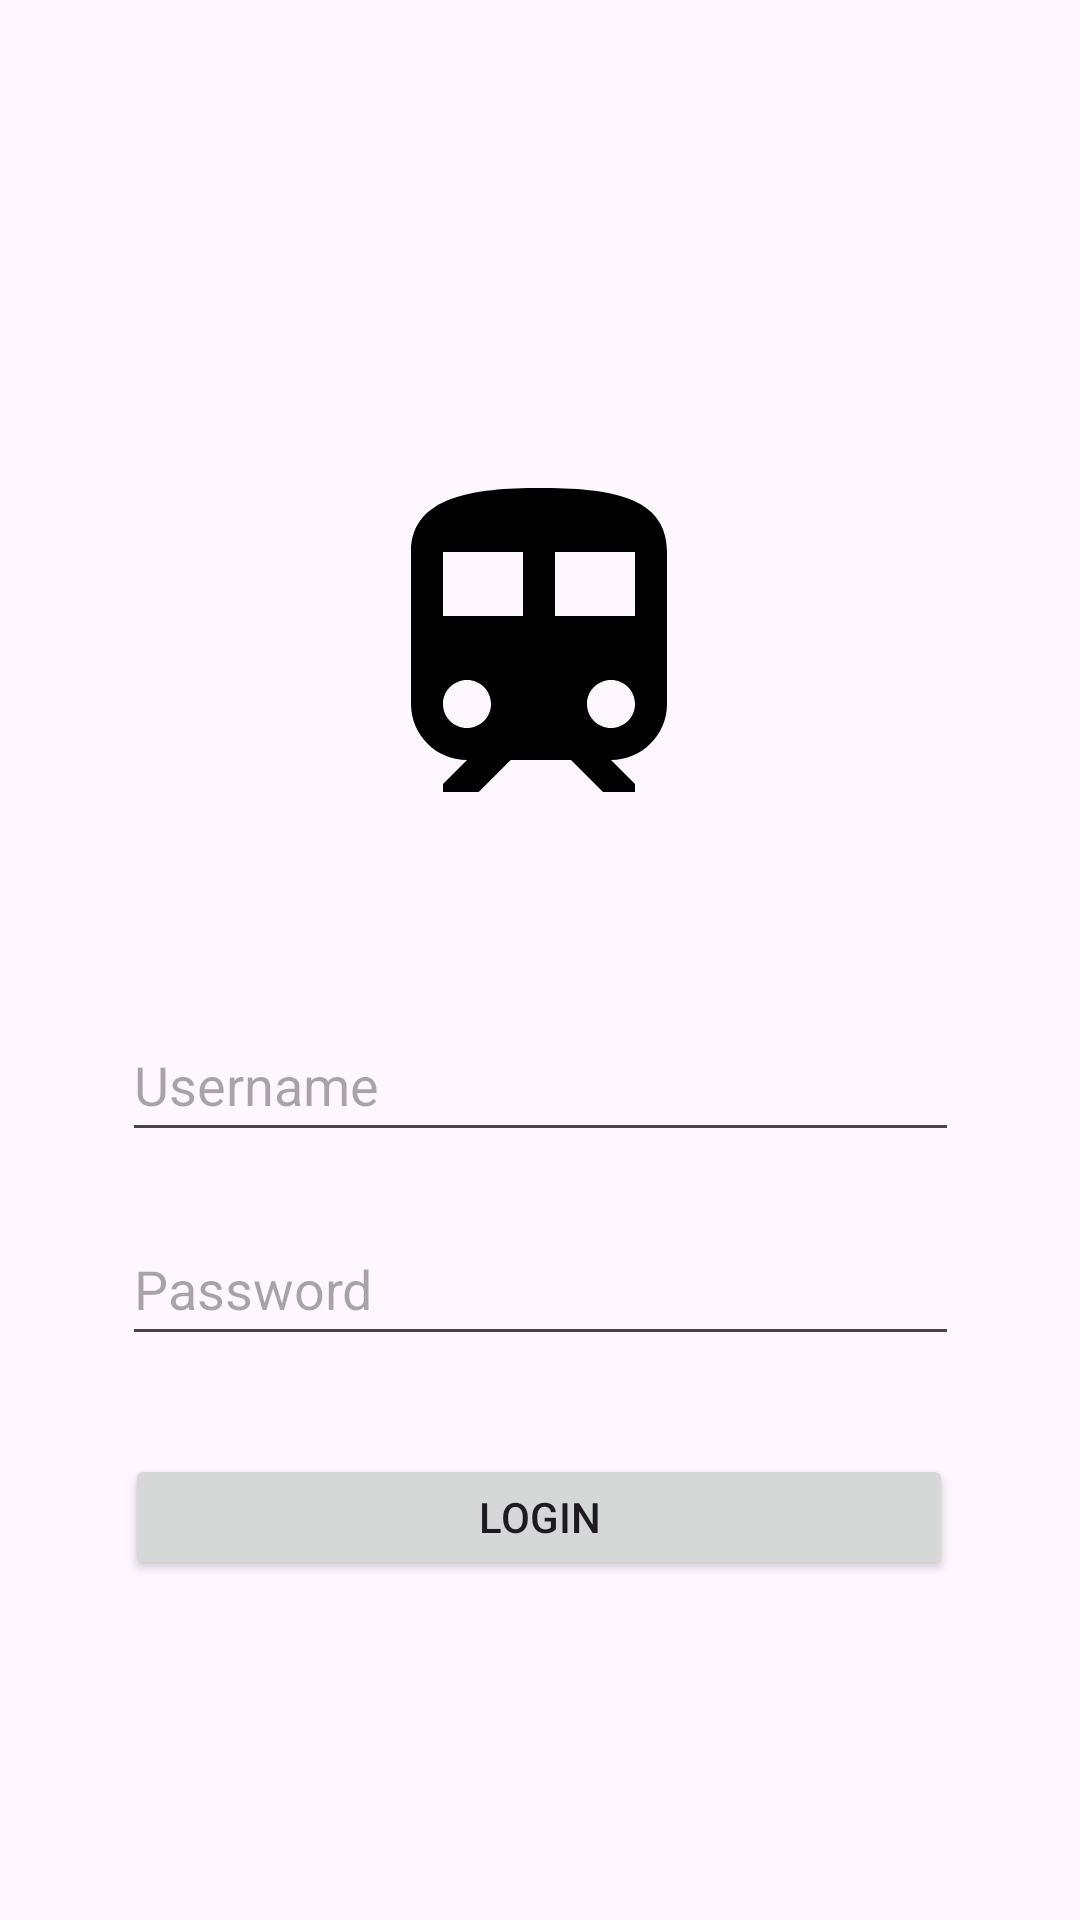

Icons on this 1080w x 1920h Android screen, each with the point to tap as (x=x, y=y):
train: (x=539, y=640)
